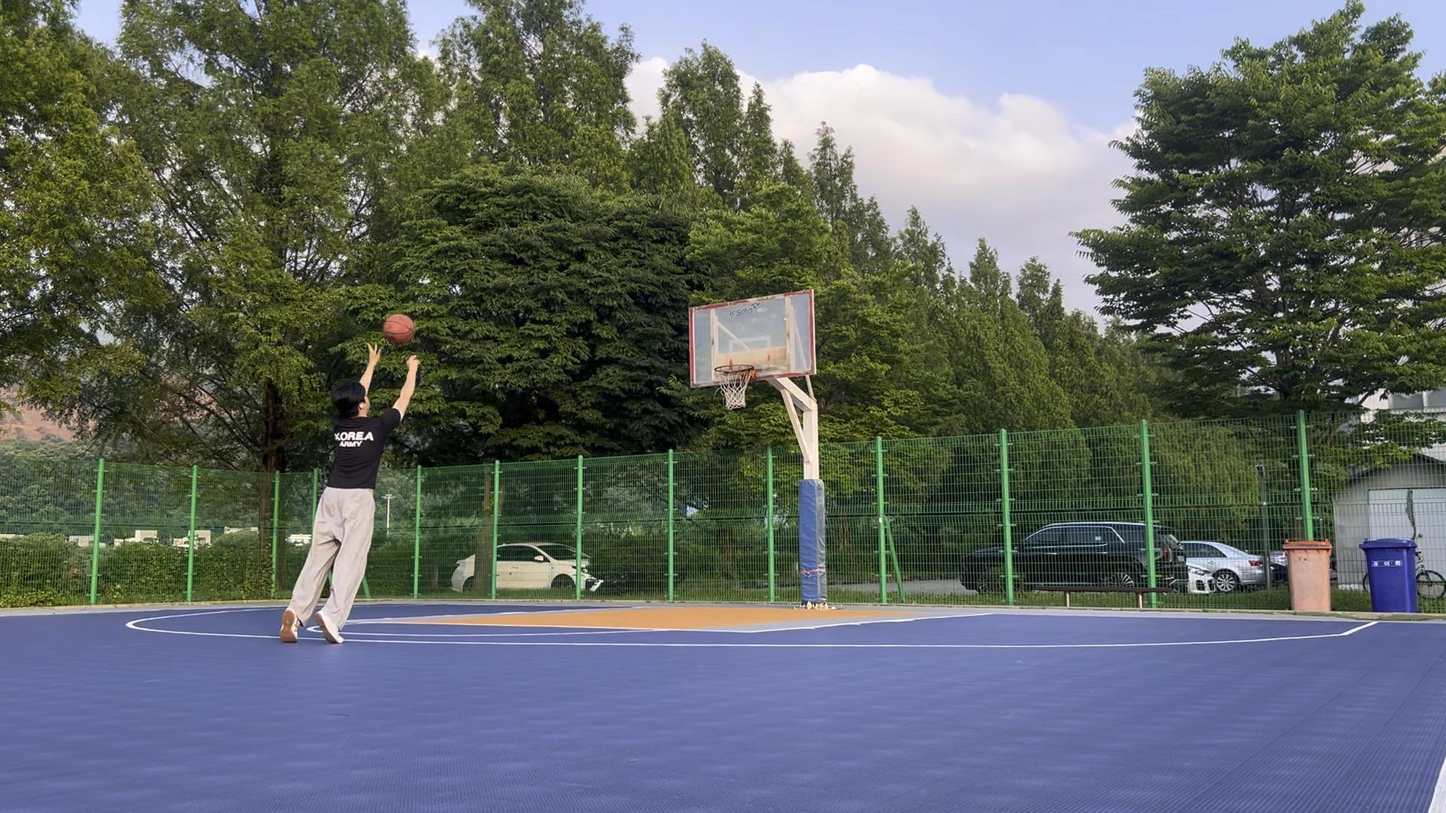ball: (382, 313, 416, 346)
human: (278, 341, 423, 645)
rim: (713, 364, 755, 411)
